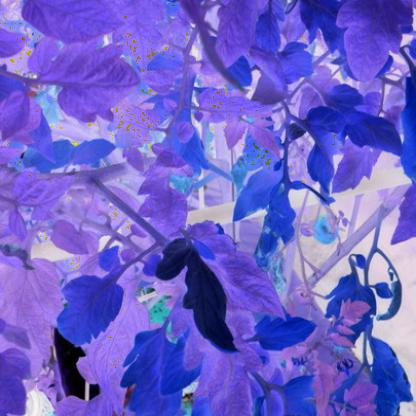tomato leaf yellow virus: (33, 38, 145, 130), (230, 158, 303, 271), (51, 270, 129, 354), (331, 8, 403, 94), (250, 314, 318, 358)
